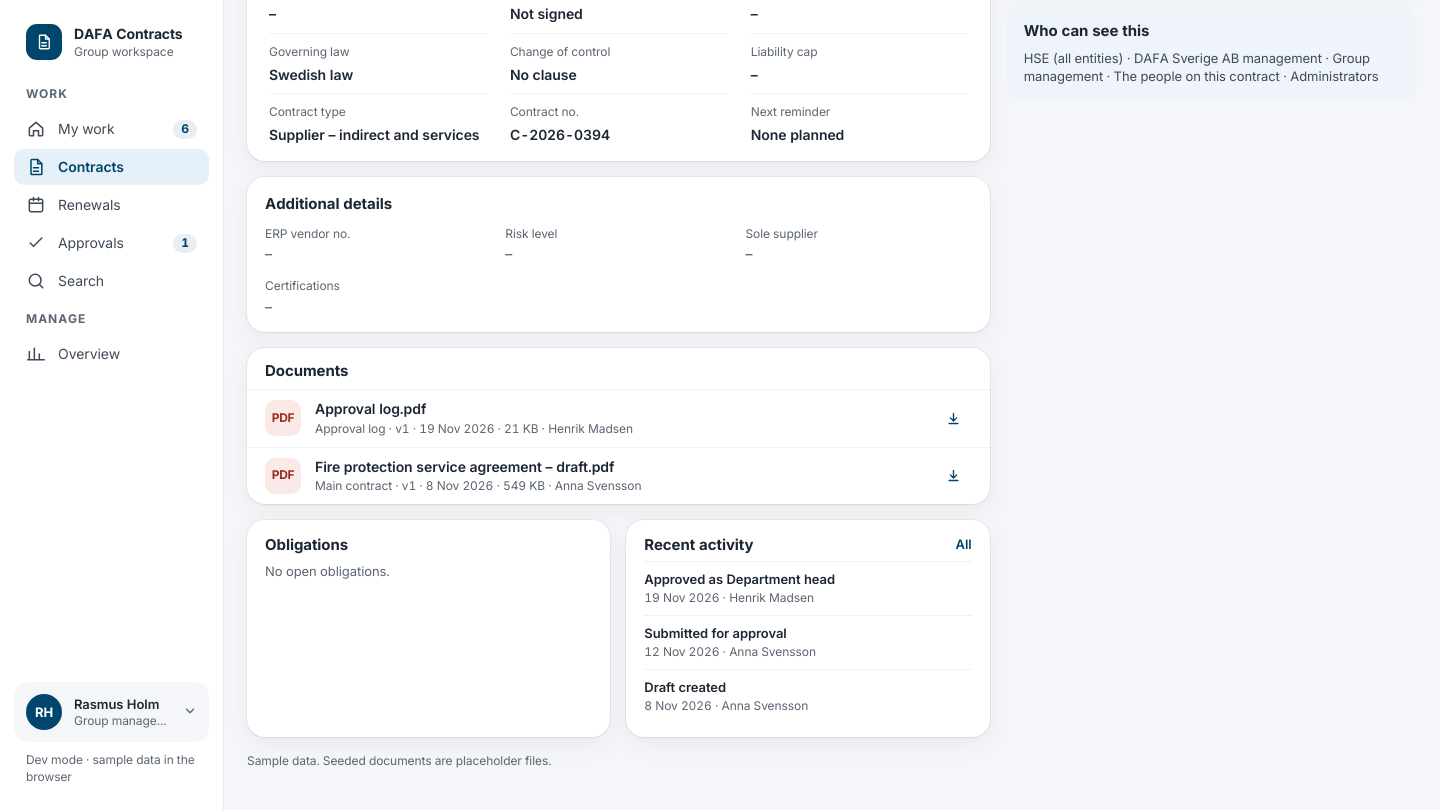
Storage problems (the app is the only door) › "SharePoint is busy" offers Retry; a missing file has its own sentence
(page scrolled)
Click the button with aria-label "Download": (371, 409) left=315, top=399, right=922, bottom=419
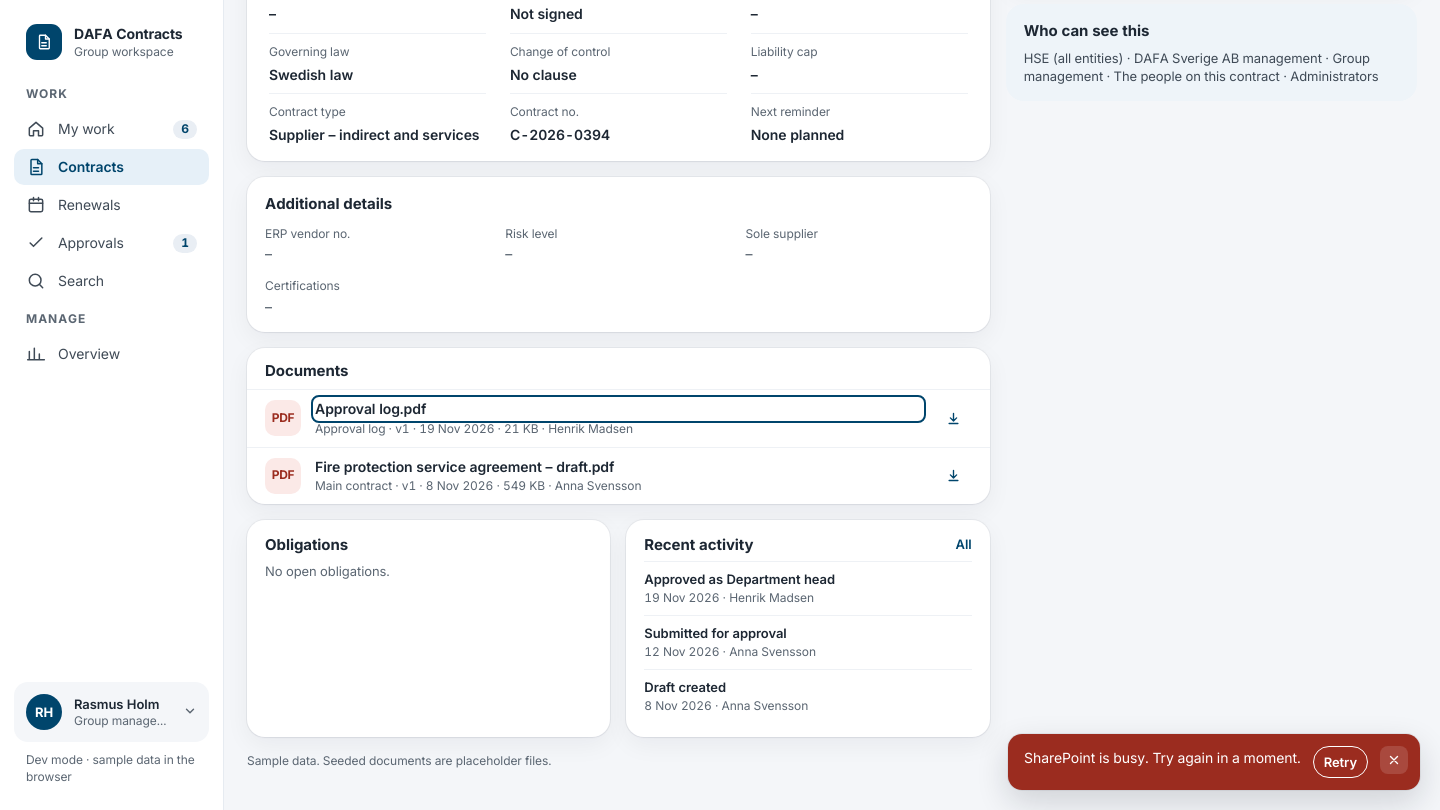
Result: the text "SharePoint is busy. Try again in a moment." is shown at left=1024, top=746, right=1301, bottom=767
Click the button "Retry": (1340, 762) left=1313, top=746, right=1368, bottom=778
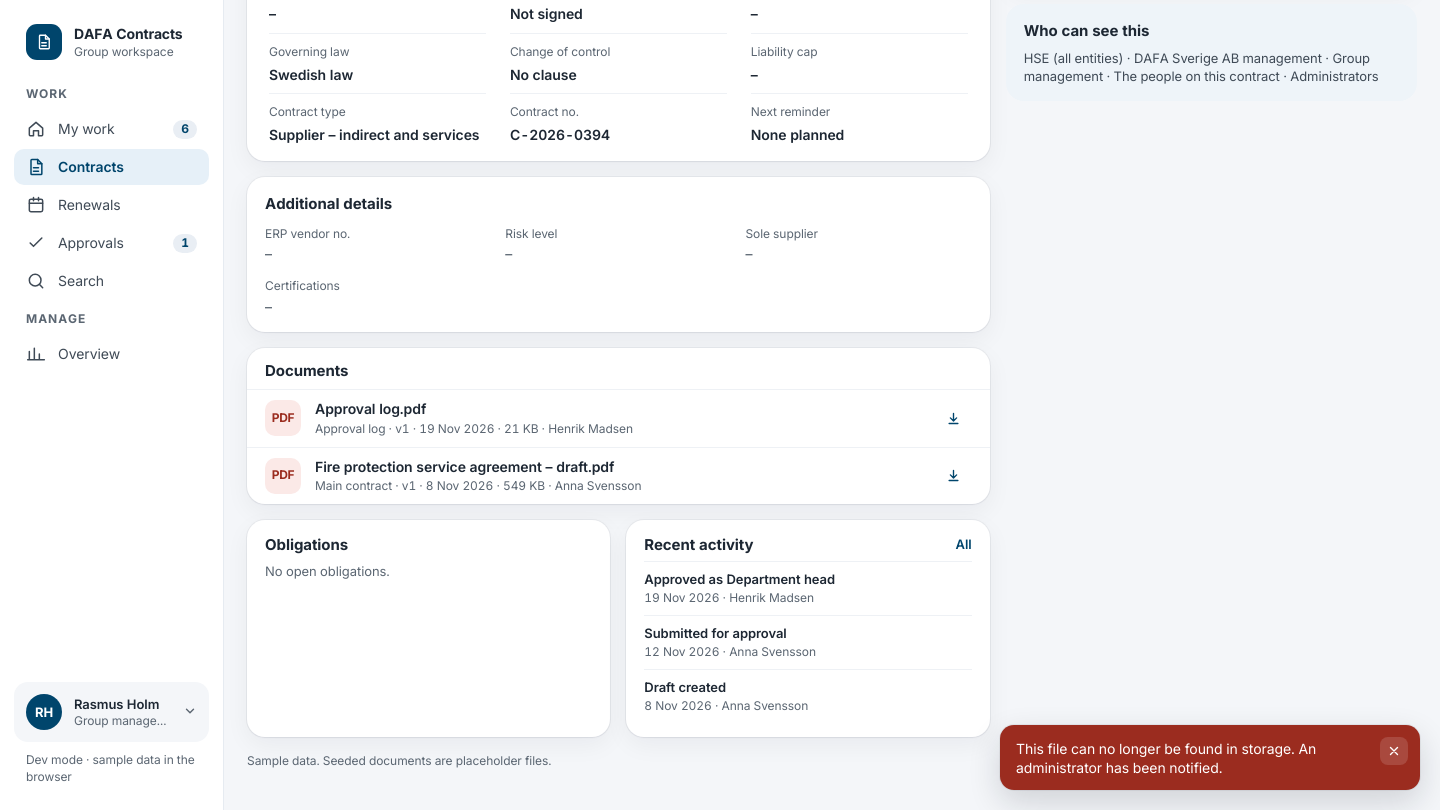
Result: the text "This file can no longer be found in storage. An administrator has been notified." is shown at left=1016, top=737, right=1368, bottom=778
